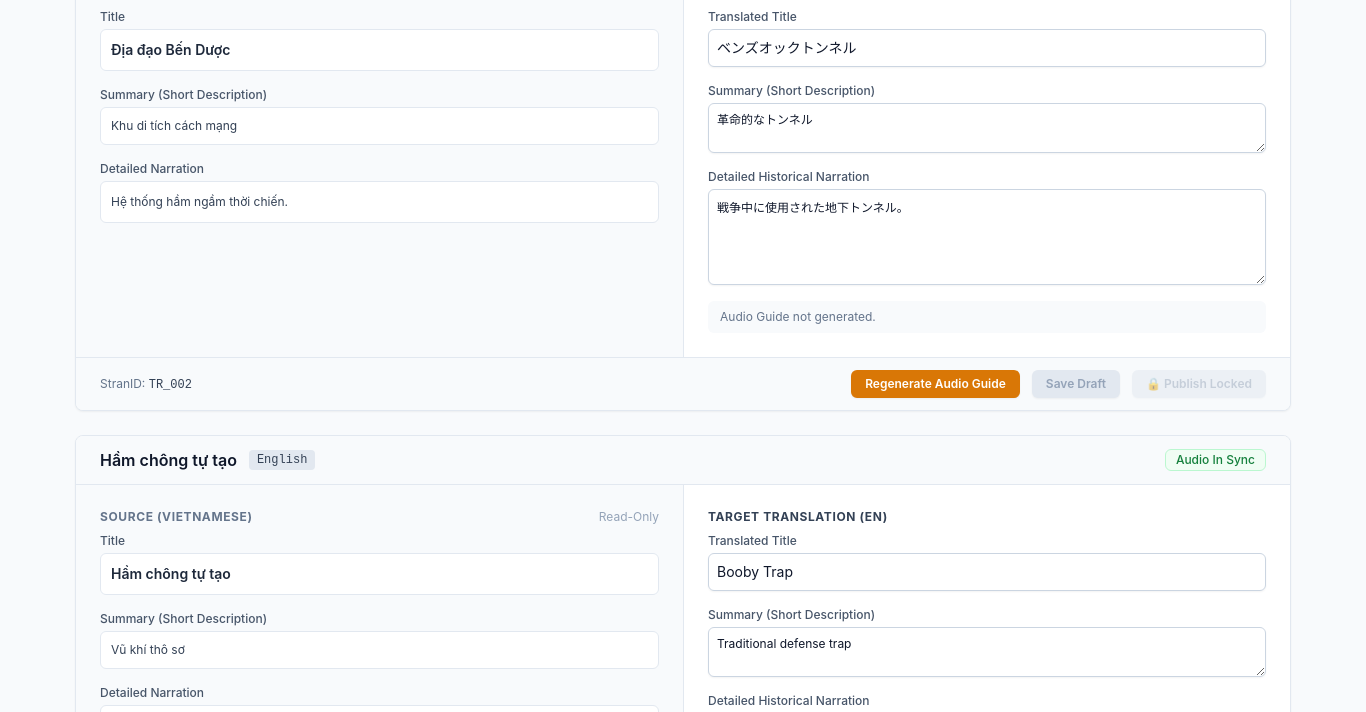
Test: TranslationAuditView (US 04.1 Multilingual Translation Audit & US 04.3 Publication) › refreshes row audio and unlocks publish after successful regeneration
(page scrolled)
Expected: the button with test id "publish-btn-TR_002" is disabled, [1132, 370, 1266, 398]
Click the button with test id "regenerate-audio-TR_002": point(936, 384) [851, 370, 1020, 398]
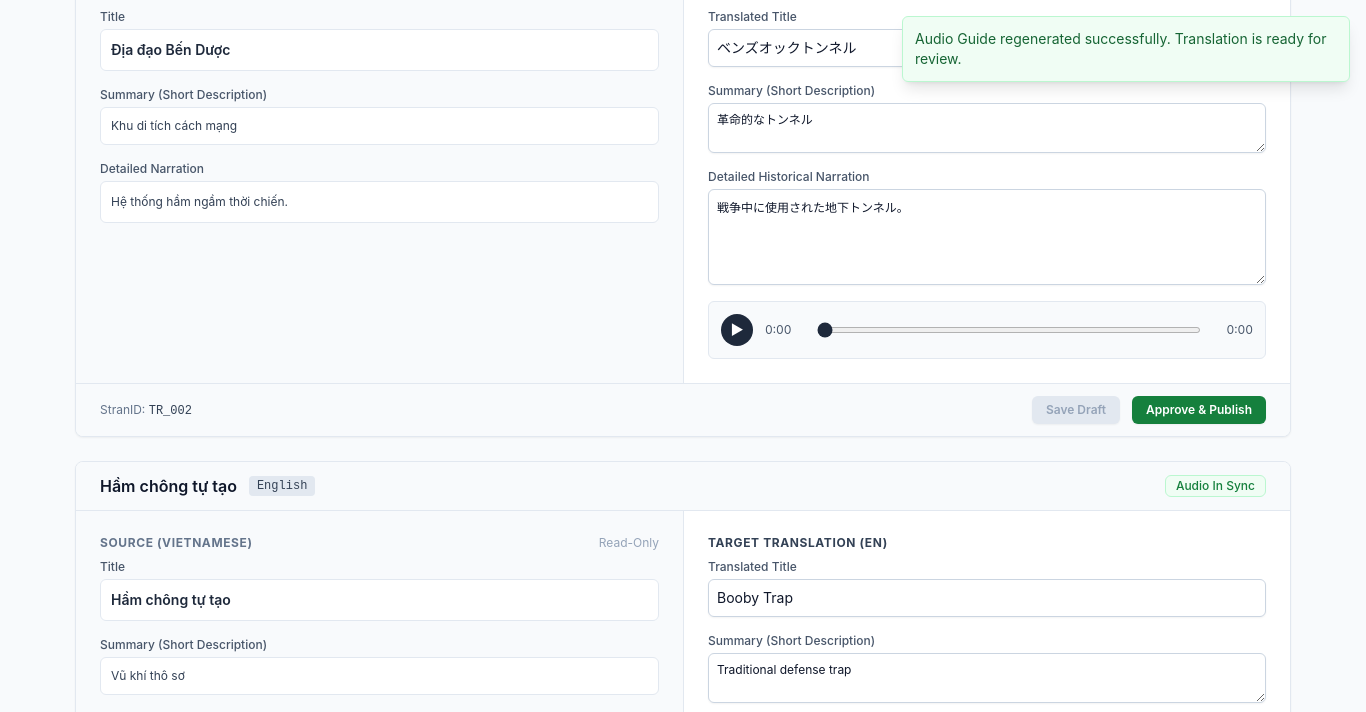
Now the button with test id "publish-btn-TR_002" is enabled, box [1132, 396, 1266, 424]
Now the element with test id "audio-player-TR_002" is shown, box [708, 301, 1266, 359]
Now the message with test id "audit-notification" shows "Audio Guide regenerated successfully", box [915, 30, 1326, 67]
